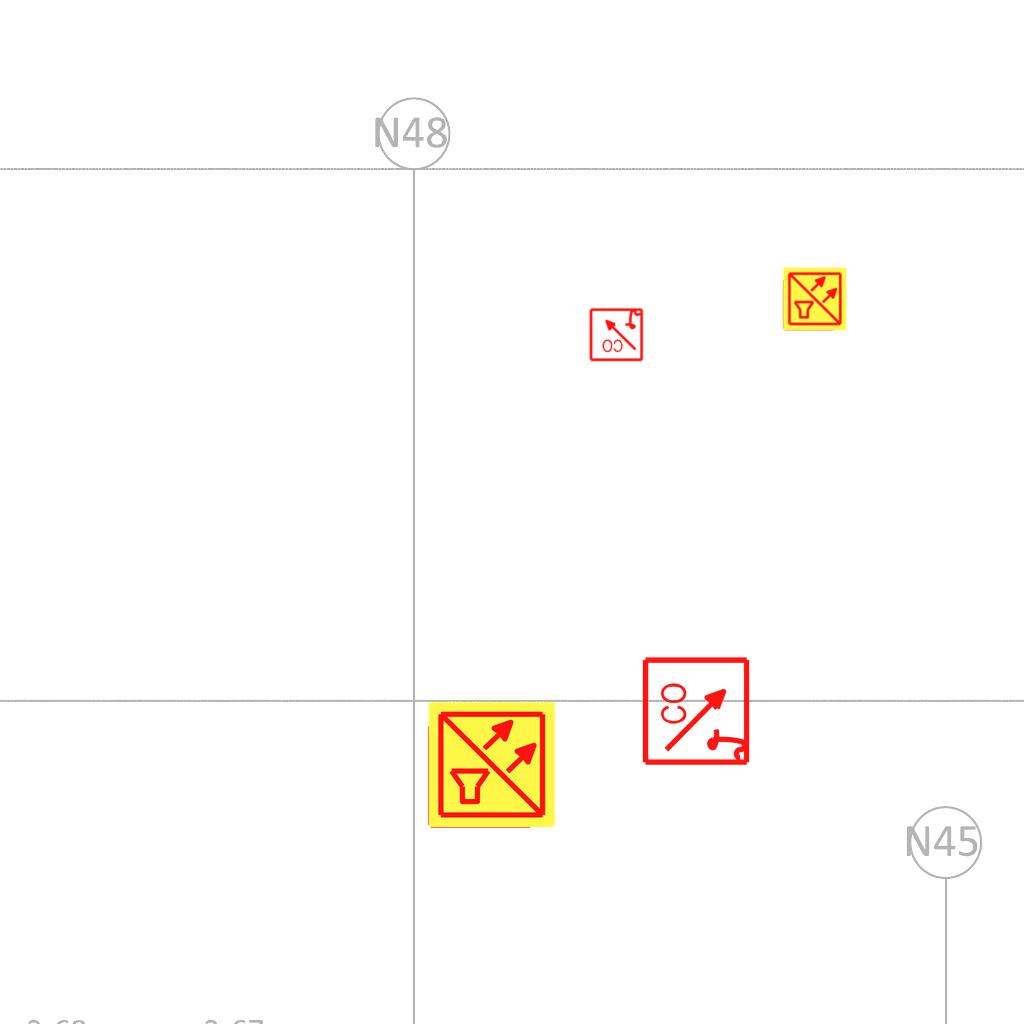OKW_Multisensormelder_(Kombination_optischer_Rauch-Kahlenmonoxid_Waerme-Melder): (426, 699, 558, 831), (782, 266, 848, 332)
ROA_Rauchmelder_optisch_mit_Signalgeber_(Sockelsirene): (641, 654, 754, 767), (588, 306, 644, 362)
